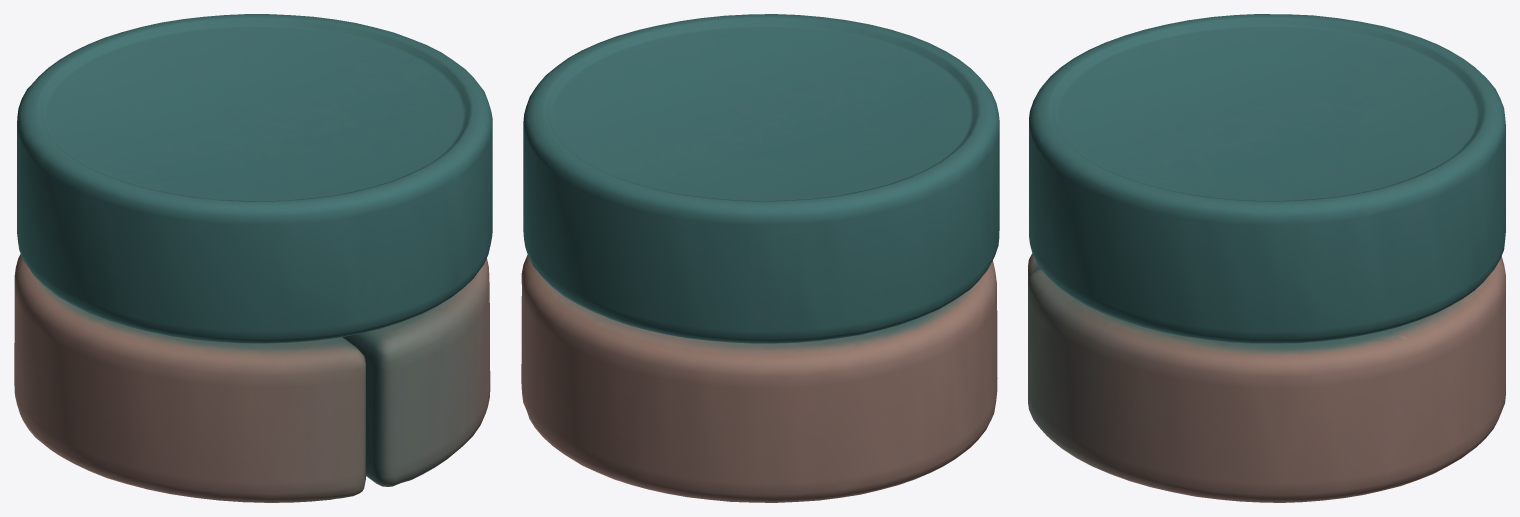
Rendered from icon-database.glb.
3 renders of one model, left to right at view 1: azimuth 30°, elevation 25°; view 2: azimuth 150°, elevation 25°; view 3: azimuth 270°, elevation 25°, orthographic.
Visible parts, largest first — view 1: tripo_node_kodyurd-model-36____________________; view 2: tripo_node_kodyurd-model-36____________________; view 3: tripo_node_kodyurd-model-36____________________.
Part boxes in pixels (<box>): tripo_node_kodyurd-model-36____________________: <box>14,14,492,502</box>; tripo_node_kodyurd-model-36____________________: <box>521,14,999,502</box>; tripo_node_kodyurd-model-36____________________: <box>1028,14,1505,502</box>.
Bounding box in the file's own units: 0.998 × 0.6934 × 0.998.
1 material, 1 textured.
